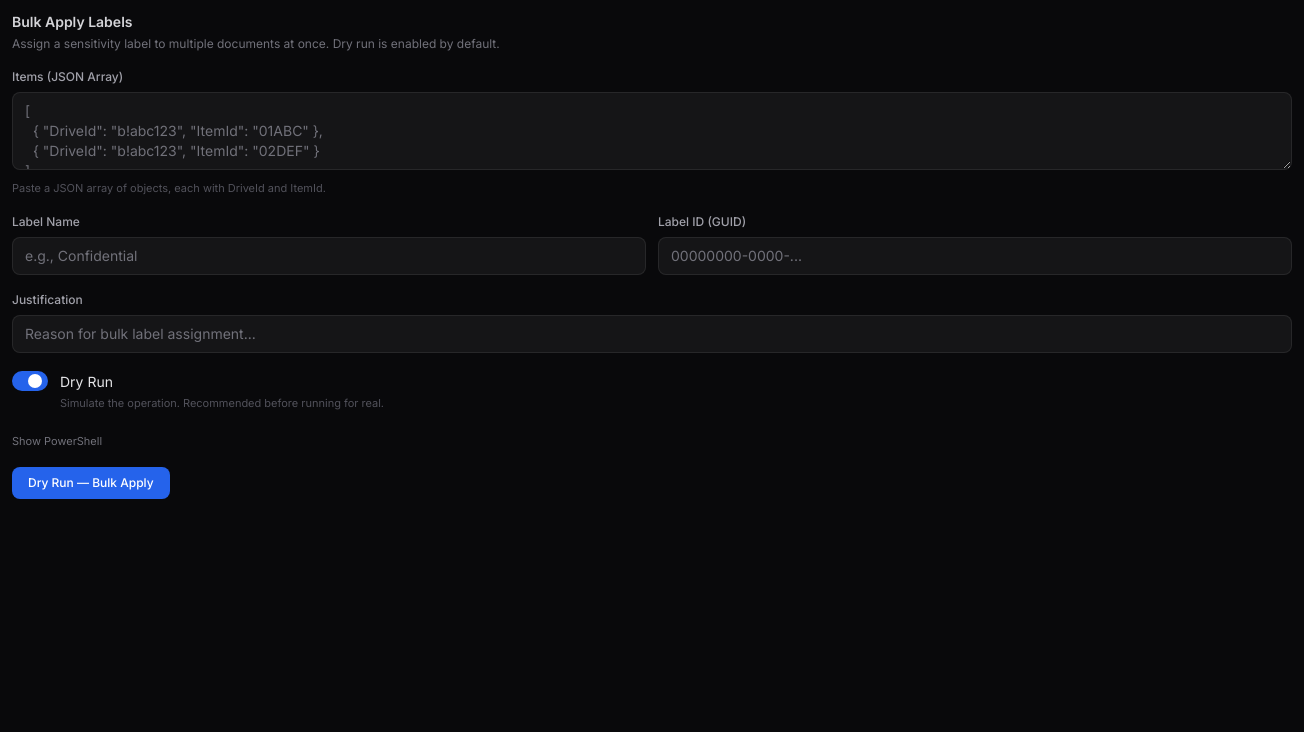
Test: DocumentLabelBulk › shows error when items JSON is an empty array
The width and height of the screenshot is (1304, 732).
Replace the text in the text box with placeholder "DriveId" with "[]" at (652, 131), box 12,92 -> 1292,170
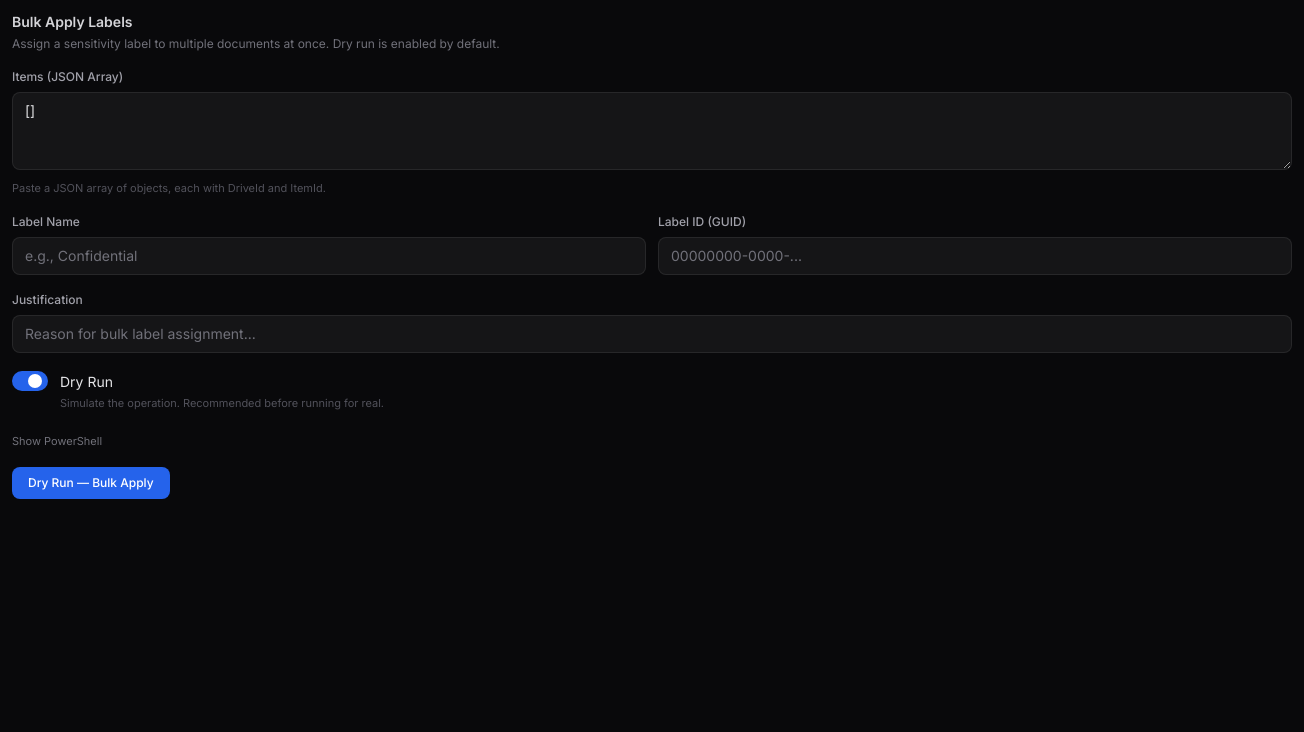
Type "Secret" into the field with placeholder "e.g., Confidential" at (329, 256), box 12,236 -> 646,274
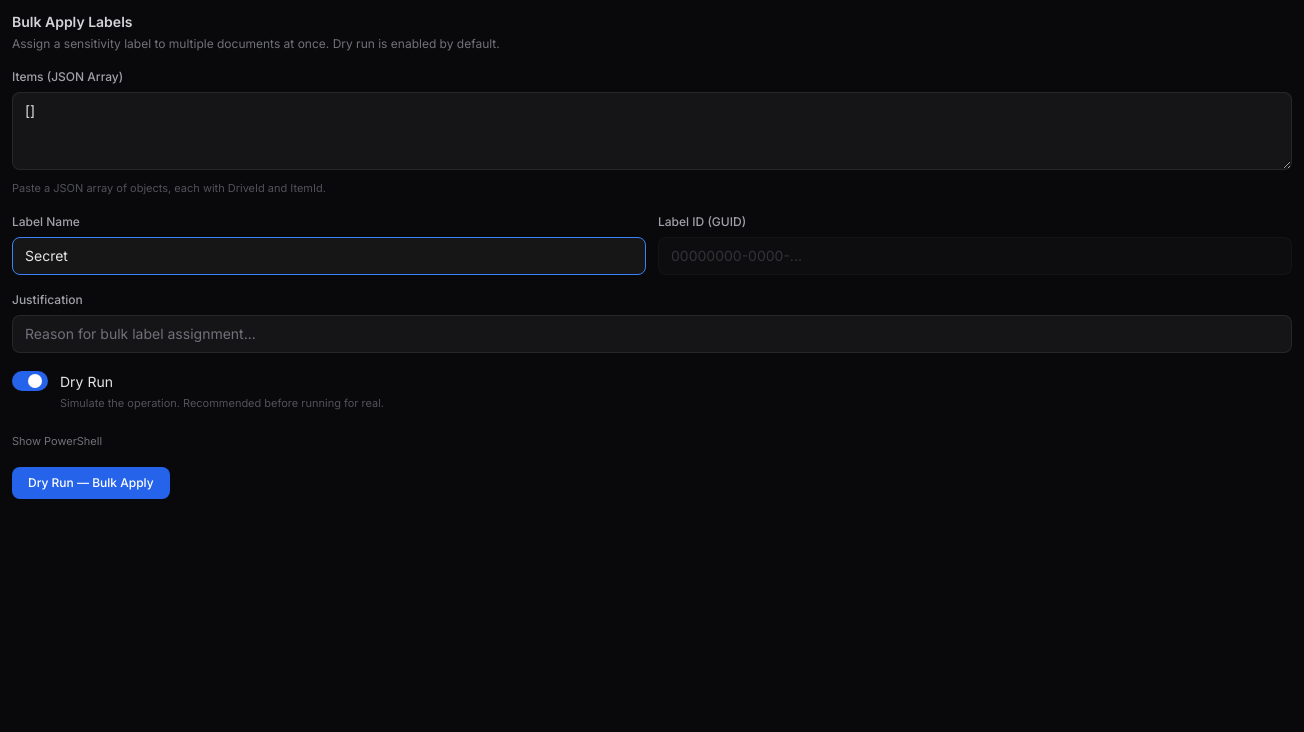
Click the button "Dry Run — Bulk Apply" at (91, 483), box 12,467 -> 170,499
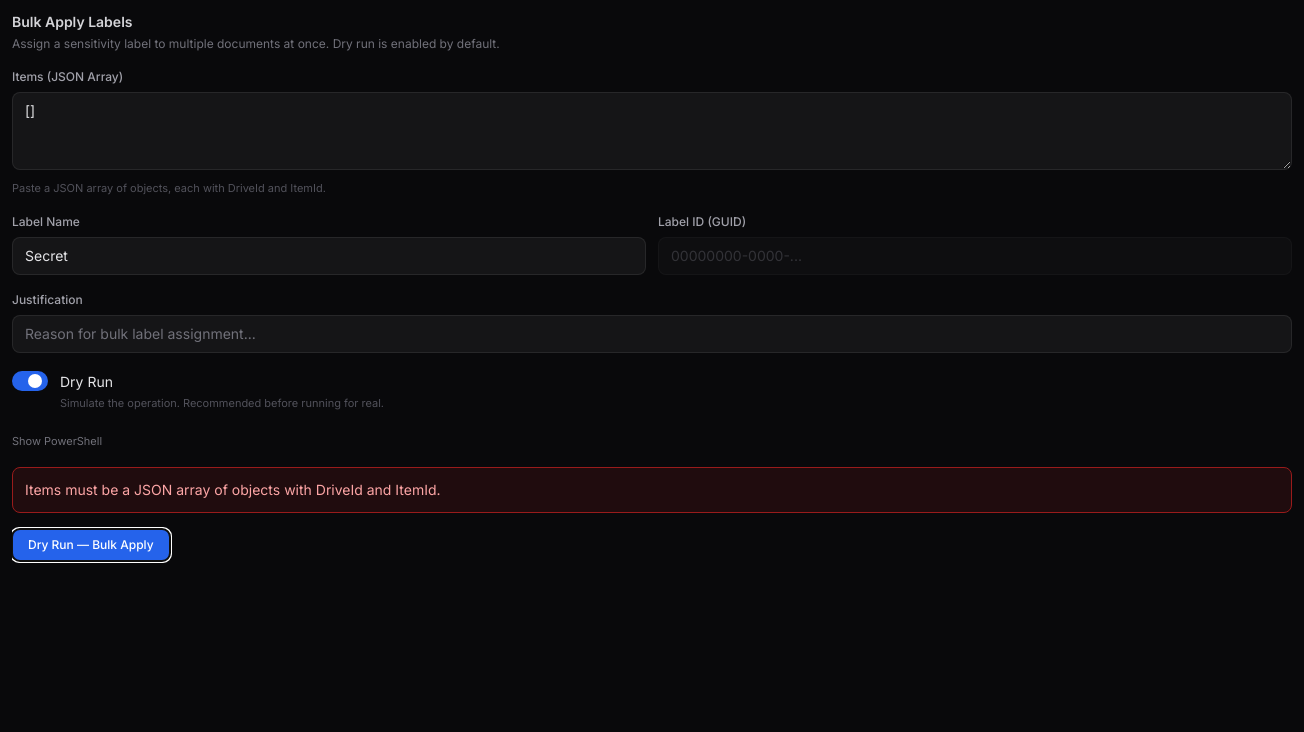
Expected: the text "Items must be a JSON array of objects with DriveId and ItemId." is shown, 12,467 -> 1292,513
